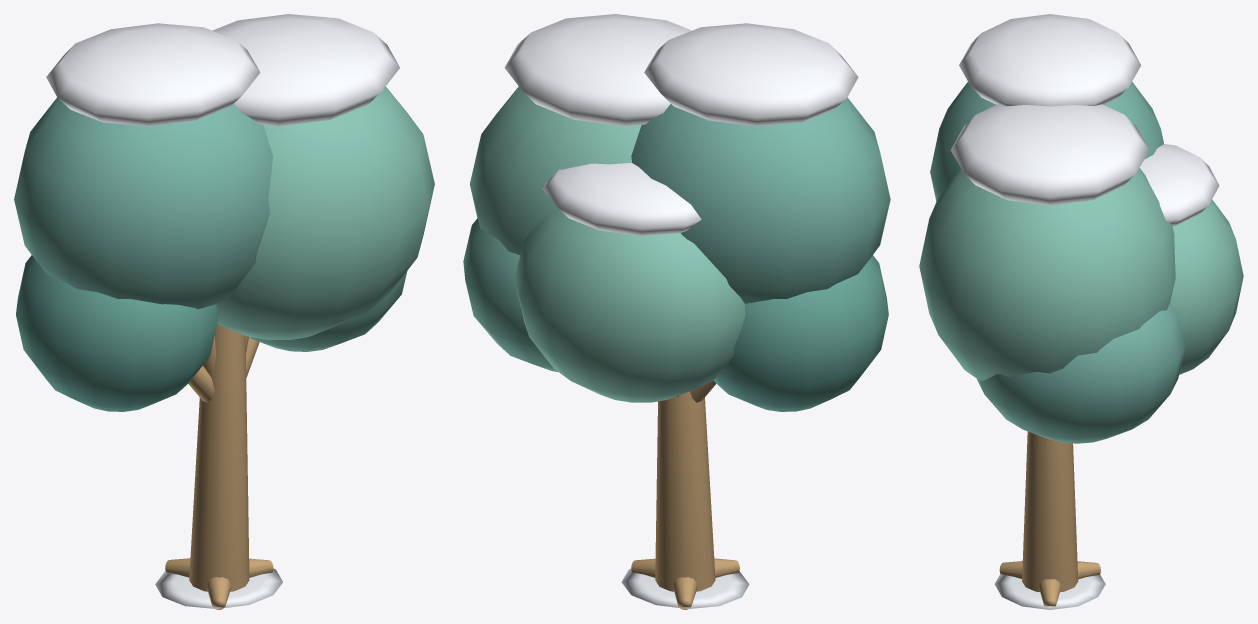
Rendered from tree_v2_winter.glb.
3 views of the same model, side by side, from view 1: azimuth 30°, elevation 25°; view 2: azimuth 150°, elevation 25°; view 3: azimuth 270°, elevation 25° (orthographic). The views are drawn at different scales.
Bounding box in the file's own units: 3.84 × 5.26 × 2.97.
